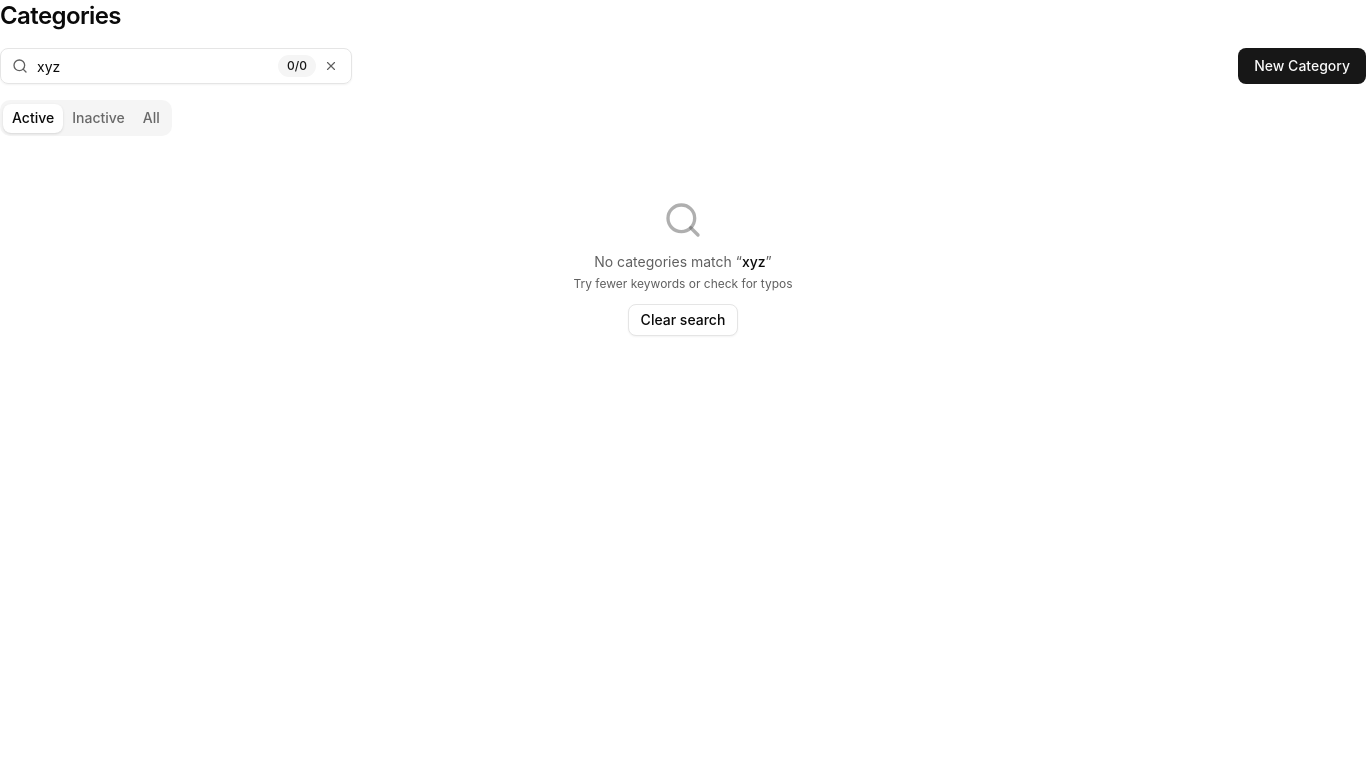
Test: Categories › closes create dialog when Cancel is clicked
Click the button "New Category" at [1302, 66], box left=1238, top=48, right=1365, bottom=84
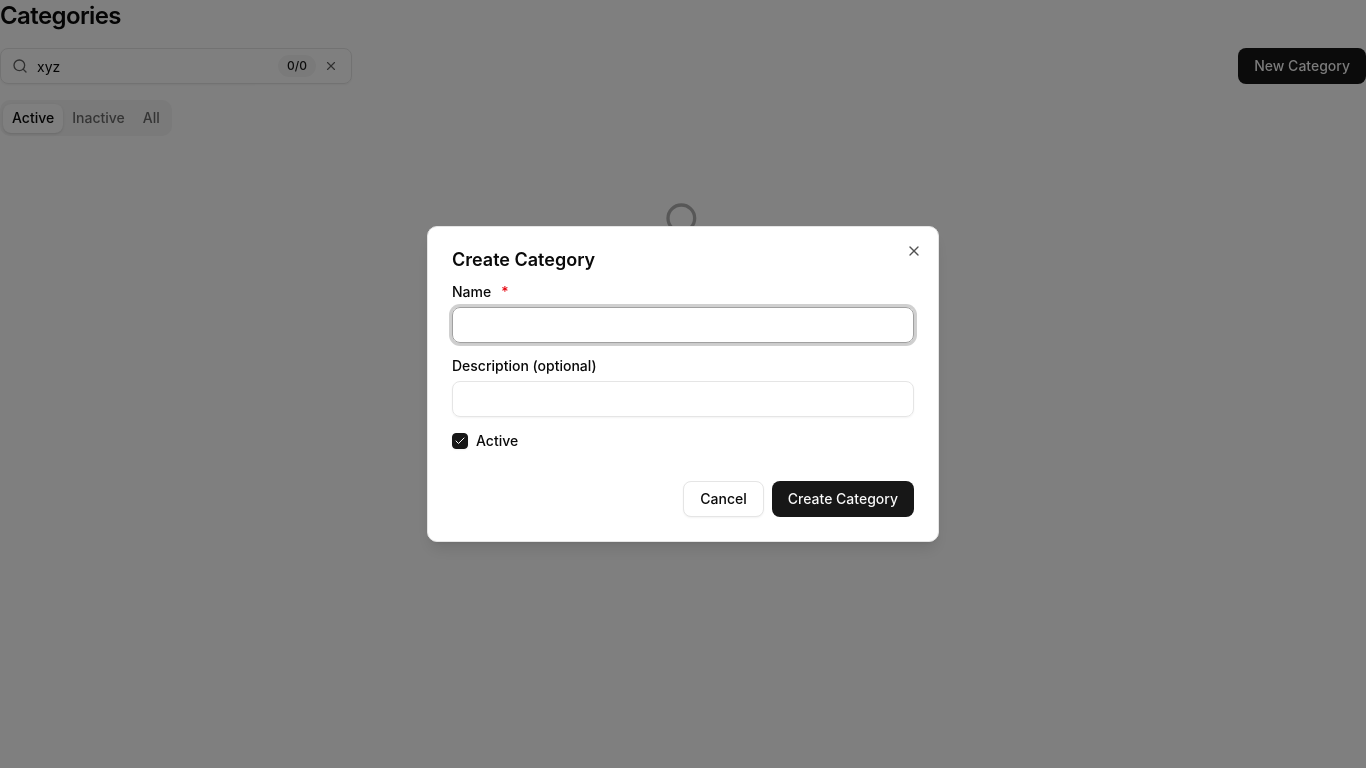
Result: the heading "Create Category" is shown at left=452, top=249, right=595, bottom=270
Click the button "Cancel" at [724, 499], box left=683, top=481, right=764, bottom=517
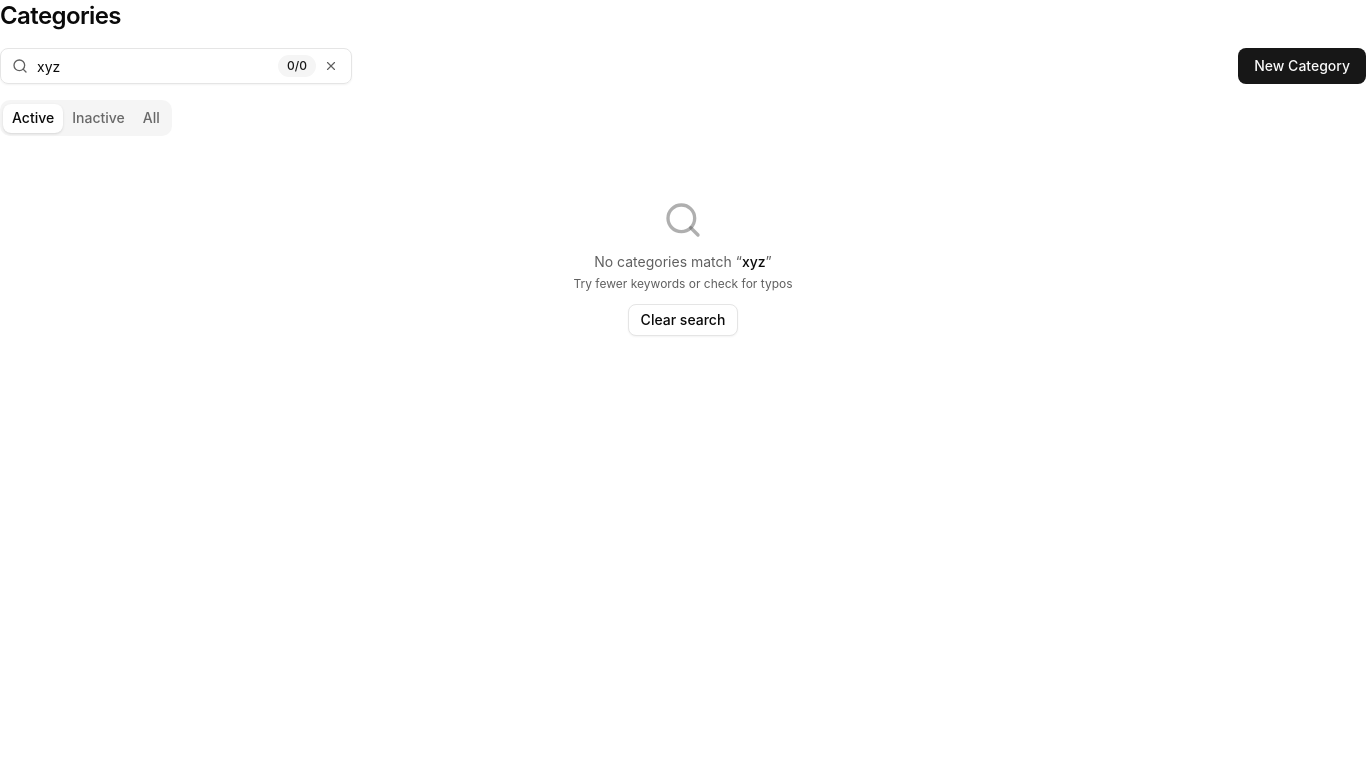
Result: the heading "Create Category" is gone
